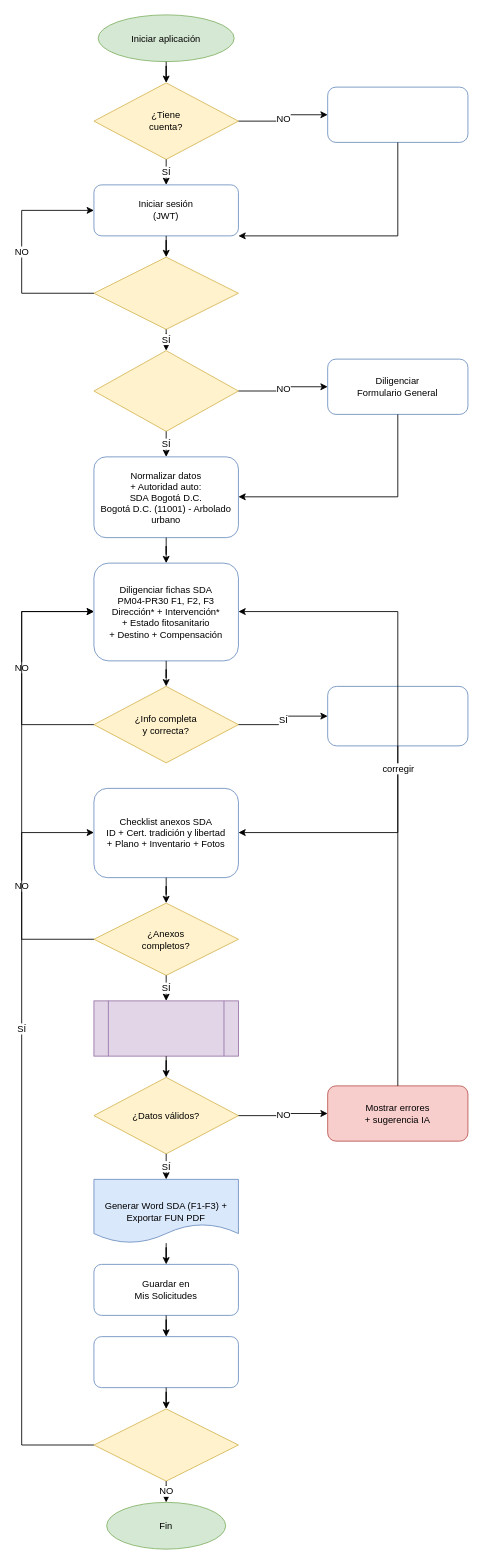
Some shapes in this 483 by 1564 pixel diagram are drawn without their labels. Each missing label, with the box of its shape:
Crear cuenta (rol cliente): (327, 86, 468, 142)
Descargar documento / ZIP: (93, 1336, 238, 1388)
Modelo ML + reglas verifica: (93, 1000, 238, 1056)
Validar dirección arbolado + código expediente: (327, 686, 468, 746)
¿FUN General diligenciado?: (93, 350, 238, 431)
¿Login válido?: (93, 256, 238, 329)
¿Otro trámite?: (93, 1408, 238, 1481)
